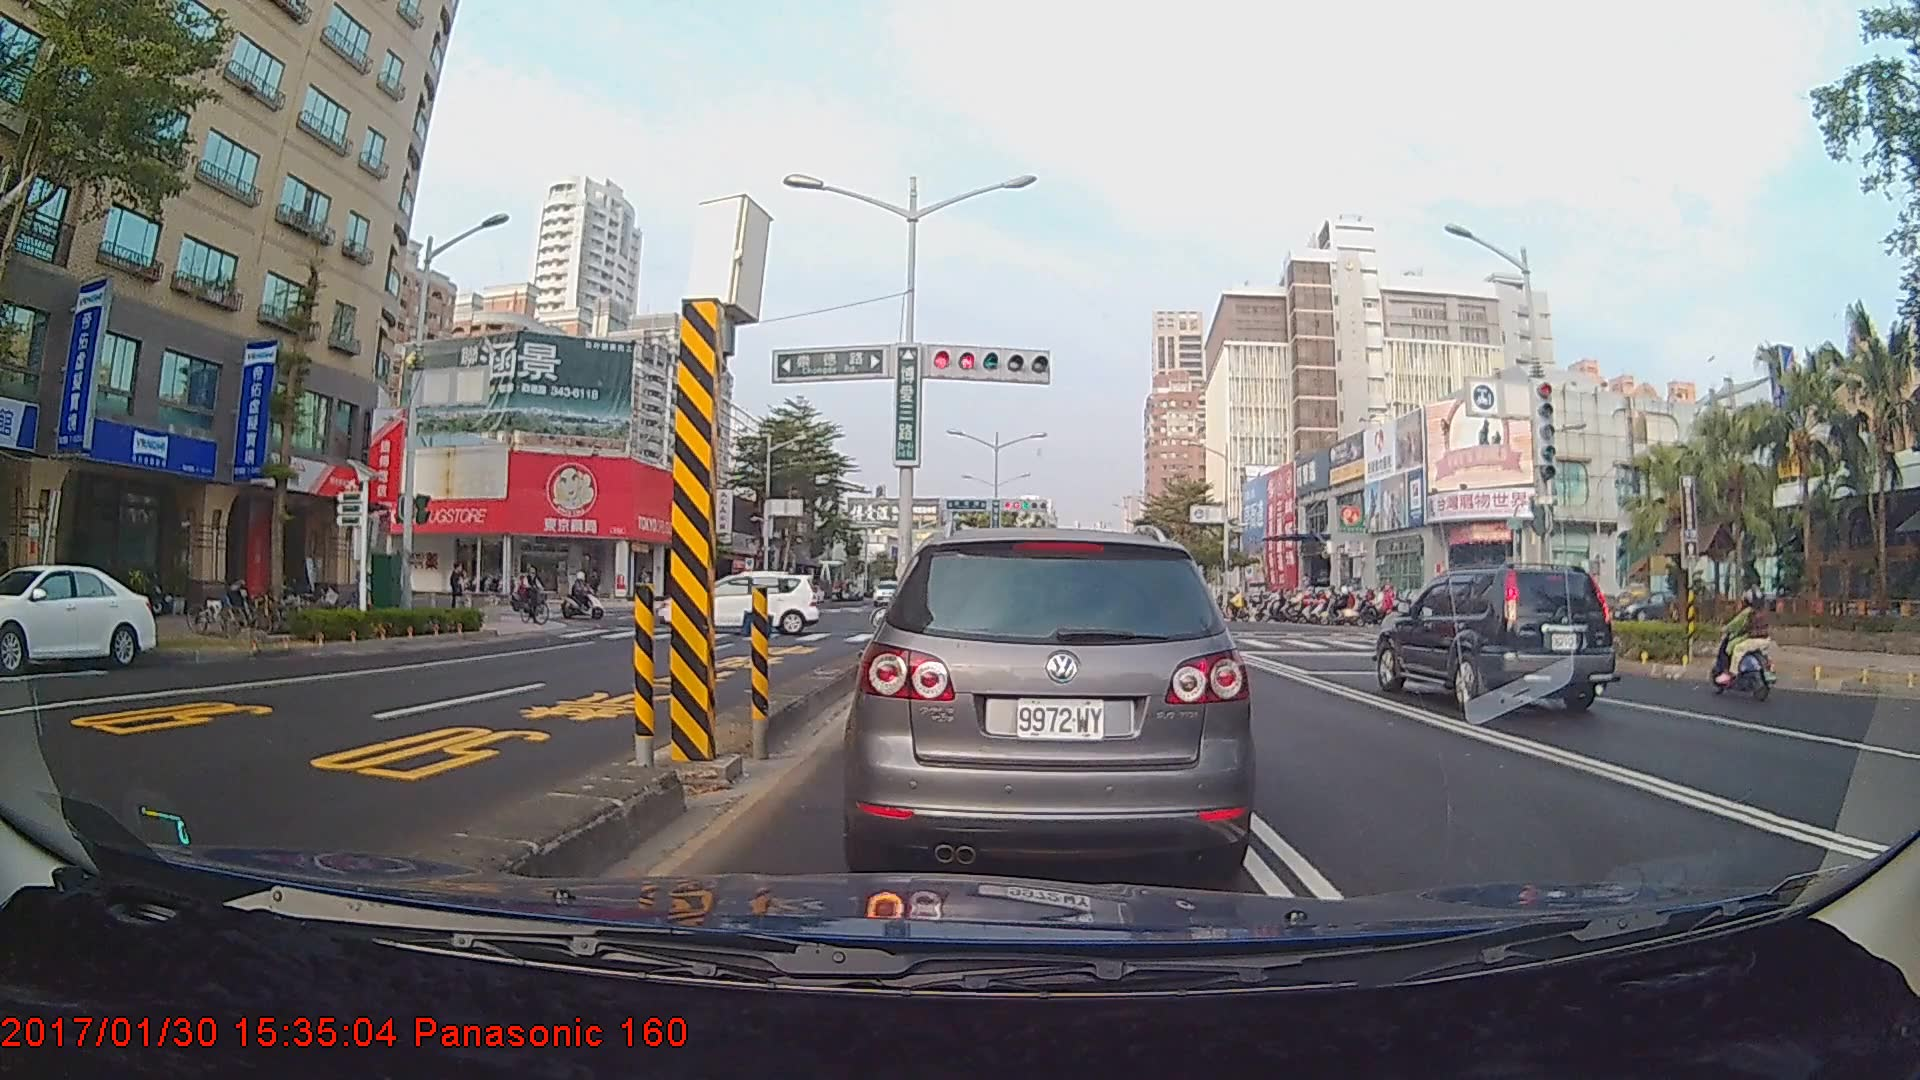pedestrian: (450, 563, 470, 620)
rider: (1707, 582, 1786, 708), (560, 571, 608, 623), (501, 571, 549, 615), (520, 566, 550, 627)
vehicle: (837, 511, 1259, 883), (1371, 565, 1612, 714), (0, 563, 153, 675), (657, 570, 820, 635)
